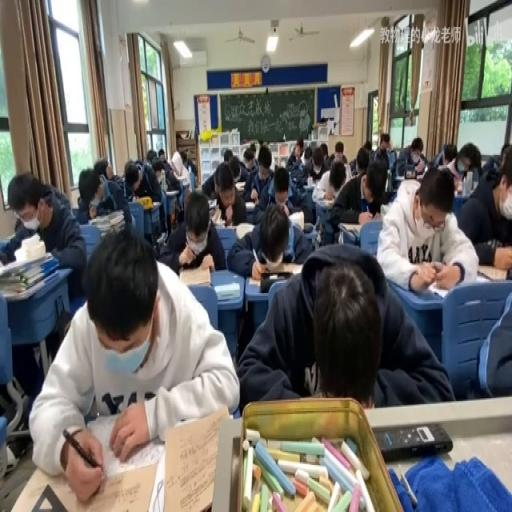calculator: (427, 276, 488, 299), (88, 208, 124, 234), (178, 263, 212, 286), (477, 263, 507, 280), (213, 282, 241, 300), (234, 222, 256, 240), (287, 209, 303, 230), (0, 230, 18, 247), (338, 220, 360, 232), (210, 205, 222, 222), (247, 276, 264, 286), (290, 170, 302, 184), (318, 196, 334, 206), (437, 164, 453, 174), (155, 232, 165, 246), (206, 196, 216, 208), (302, 180, 314, 190), (480, 156, 490, 168), (165, 189, 178, 196), (234, 181, 245, 189), (245, 201, 255, 209), (194, 180, 202, 190), (394, 172, 405, 179), (149, 199, 159, 206)
paper: (32, 225, 237, 496), (236, 246, 450, 412), (378, 165, 479, 290), (2, 169, 88, 297), (228, 199, 310, 277), (158, 188, 224, 276), (327, 158, 384, 237), (474, 284, 512, 400), (125, 158, 163, 237), (250, 146, 282, 215), (444, 142, 482, 185), (74, 161, 100, 222), (170, 151, 193, 210), (397, 136, 429, 176), (94, 155, 124, 195), (218, 189, 246, 225), (226, 145, 249, 179), (284, 139, 306, 172), (327, 141, 349, 173), (373, 145, 389, 169), (430, 145, 446, 168), (329, 169, 344, 192), (355, 150, 368, 176), (378, 132, 393, 152), (318, 142, 330, 165), (152, 160, 165, 176), (302, 146, 312, 165), (500, 142, 510, 161), (145, 148, 157, 163), (343, 164, 352, 184), (126, 178, 138, 193), (186, 160, 197, 176), (362, 138, 372, 154), (222, 148, 232, 162), (249, 142, 256, 158), (157, 148, 165, 161), (180, 149, 186, 165), (245, 156, 253, 168)
person: (374, 422, 451, 461), (260, 273, 294, 292), (261, 263, 294, 273), (302, 220, 314, 232), (404, 169, 414, 179)
